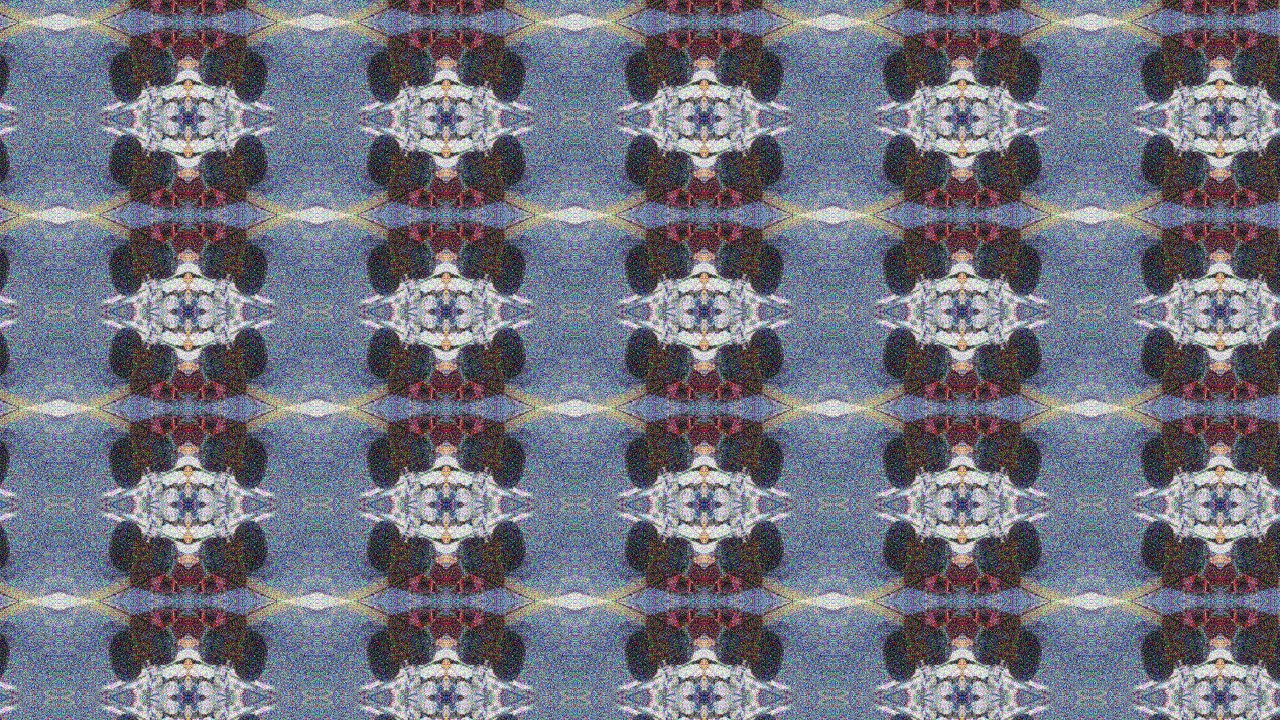chock: (186, 214, 249, 254), (383, 214, 446, 254), (642, 214, 705, 254), (704, 214, 767, 254), (901, 214, 964, 254), (963, 214, 1026, 254), (186, 369, 249, 409), (383, 369, 446, 409), (642, 369, 705, 409), (704, 369, 767, 409), (901, 369, 964, 409), (963, 369, 1026, 409), (186, 602, 249, 642), (383, 602, 446, 642), (642, 602, 705, 642), (704, 602, 767, 642), (901, 602, 964, 642), (963, 602, 1026, 642), (124, 214, 186, 254), (446, 214, 508, 254), (1160, 214, 1222, 254), (124, 369, 186, 409), (446, 369, 508, 409), (1160, 369, 1222, 409), (124, 602, 186, 642), (446, 602, 508, 642), (1160, 602, 1222, 642), (186, 21, 249, 60), (383, 21, 446, 60), (642, 21, 705, 60), (704, 21, 767, 60), (901, 21, 964, 60), (963, 21, 1026, 60), (186, 175, 249, 214), (383, 175, 446, 214), (642, 175, 705, 214), (704, 175, 767, 214), (901, 175, 964, 214), (963, 175, 1026, 214), (186, 409, 249, 448), (383, 409, 446, 448), (642, 409, 705, 448), (704, 409, 767, 448), (901, 409, 964, 448), (963, 409, 1026, 448), (186, 563, 249, 602), (383, 563, 446, 602), (642, 563, 705, 602), (704, 563, 767, 602), (901, 563, 964, 602), (963, 563, 1026, 602), (124, 21, 186, 60), (446, 21, 508, 60), (1160, 21, 1222, 60), (124, 175, 186, 214), (446, 175, 508, 214), (1160, 175, 1222, 214), (124, 409, 186, 448), (446, 409, 508, 448), (1160, 409, 1222, 448), (124, 563, 186, 602), (446, 563, 508, 602), (1160, 563, 1222, 602), (1222, 214, 1280, 254), (1222, 369, 1280, 409), (1222, 602, 1280, 642), (1222, 21, 1280, 60), (1222, 175, 1280, 214), (1222, 409, 1280, 448), (1222, 563, 1280, 602), (186, 0, 249, 20), (383, 0, 446, 20), (642, 0, 705, 20), (704, 0, 767, 20), (901, 0, 964, 20), (963, 0, 1026, 20), (124, 0, 186, 20), (446, 0, 508, 20), (1160, 0, 1222, 20), (1222, 0, 1280, 20), (186, 31, 207, 61), (425, 31, 446, 61), (1222, 31, 1243, 61), (186, 174, 207, 204), (425, 174, 446, 204), (1222, 174, 1243, 204), (186, 225, 207, 255), (425, 225, 446, 255), (1222, 225, 1243, 255), (186, 368, 207, 398), (425, 368, 446, 398), (1222, 368, 1243, 398), (186, 419, 207, 449), (425, 419, 446, 449), (1222, 419, 1243, 449), (186, 562, 207, 592), (425, 562, 446, 592), (1222, 562, 1243, 592), (186, 613, 207, 643), (425, 613, 446, 643), (1222, 613, 1243, 643), (166, 31, 186, 61), (446, 31, 466, 61), (684, 31, 704, 61), (705, 31, 725, 61), (943, 31, 963, 61), (964, 31, 984, 61), (1202, 31, 1222, 61), (166, 174, 186, 204), (446, 174, 466, 204), (684, 174, 704, 204), (705, 174, 725, 204), (943, 174, 963, 204), (964, 174, 984, 204), (1202, 174, 1222, 204), (166, 225, 186, 255), (446, 225, 466, 255), (684, 225, 704, 255), (705, 225, 725, 255), (943, 225, 963, 255), (964, 225, 984, 255), (1202, 225, 1222, 255), (166, 368, 186, 398), (446, 368, 466, 398), (684, 368, 704, 398), (705, 368, 725, 398), (943, 368, 963, 398), (964, 368, 984, 398), (1202, 368, 1222, 398), (166, 419, 186, 449), (446, 419, 466, 449), (684, 419, 704, 449), (705, 419, 725, 449), (943, 419, 963, 449), (964, 419, 984, 449), (1202, 419, 1222, 449), (166, 562, 186, 592), (446, 562, 466, 592), (684, 562, 704, 592), (705, 562, 725, 592), (943, 562, 963, 592), (964, 562, 984, 592), (1202, 562, 1222, 592), (166, 613, 186, 643), (446, 613, 466, 643), (684, 613, 704, 643), (705, 613, 725, 643), (943, 613, 963, 643), (964, 613, 984, 643), (1202, 613, 1222, 643), (186, 0, 207, 10), (425, 0, 446, 10), (1222, 0, 1243, 10), (166, 0, 186, 10), (446, 0, 466, 10), (684, 0, 704, 10), (705, 0, 725, 10), (943, 0, 963, 10), (964, 0, 984, 10), (1202, 0, 1222, 10)
wheel: (97, 48, 149, 108), (224, 48, 276, 108), (356, 48, 408, 108), (483, 48, 535, 108), (615, 48, 667, 108), (742, 48, 794, 108), (874, 48, 926, 108), (1001, 48, 1053, 108), (1133, 48, 1185, 108), (97, 127, 149, 187), (224, 127, 276, 187), (356, 127, 408, 187), (483, 127, 535, 187), (615, 127, 667, 187), (742, 127, 794, 187), (874, 127, 926, 187), (1001, 127, 1053, 187), (1133, 127, 1185, 187), (97, 242, 149, 302), (224, 242, 276, 302), (356, 242, 408, 302), (483, 242, 535, 302), (615, 242, 667, 302), (742, 242, 794, 302), (874, 242, 926, 302), (1001, 242, 1053, 302), (1133, 242, 1185, 302), (97, 321, 149, 381), (224, 321, 276, 381), (356, 321, 408, 381), (483, 321, 535, 381), (615, 321, 667, 381), (742, 321, 794, 381), (874, 321, 926, 381), (1001, 321, 1053, 381), (1133, 321, 1185, 381), (97, 436, 149, 496), (224, 436, 276, 496), (356, 436, 408, 496), (483, 436, 535, 496), (615, 436, 667, 496), (742, 436, 794, 496), (874, 436, 926, 496), (1001, 436, 1053, 496), (1133, 436, 1185, 496), (97, 515, 149, 575), (224, 515, 276, 575), (356, 515, 408, 575), (483, 515, 535, 575), (615, 515, 667, 575), (742, 515, 794, 575), (874, 515, 926, 575), (1001, 515, 1053, 575), (1133, 515, 1185, 575), (97, 630, 149, 690), (224, 630, 276, 690), (356, 630, 408, 690), (483, 630, 535, 690), (615, 630, 667, 690), (742, 630, 794, 690), (874, 630, 926, 690), (1001, 630, 1053, 690), (1133, 630, 1185, 690), (141, 44, 183, 90), (190, 44, 232, 90), (400, 44, 442, 90), (449, 44, 491, 90), (659, 44, 701, 90), (708, 44, 750, 90), (918, 44, 960, 90), (967, 44, 1009, 90), (1177, 44, 1219, 90), (1226, 44, 1268, 90), (141, 145, 183, 191), (190, 145, 232, 191), (400, 145, 442, 191), (449, 145, 491, 191), (659, 145, 701, 191), (708, 145, 750, 191), (918, 145, 960, 191), (967, 145, 1009, 191), (1177, 145, 1219, 191), (1226, 145, 1268, 191), (141, 238, 183, 284), (190, 238, 232, 284), (400, 238, 442, 284), (449, 238, 491, 284), (659, 238, 701, 284), (708, 238, 750, 284), (918, 238, 960, 284), (967, 238, 1009, 284), (1177, 238, 1219, 284), (1226, 238, 1268, 284), (141, 339, 183, 385), (190, 339, 232, 385), (400, 339, 442, 385), (449, 339, 491, 385), (659, 339, 701, 385), (708, 339, 750, 385), (918, 339, 960, 385), (967, 339, 1009, 385), (1177, 339, 1219, 385), (1226, 339, 1268, 385), (141, 432, 183, 478), (190, 432, 232, 478), (400, 432, 442, 478), (449, 432, 491, 478), (659, 432, 701, 478), (708, 432, 750, 478), (918, 432, 960, 478), (967, 432, 1009, 478), (1177, 432, 1219, 478), (1226, 432, 1268, 478), (141, 533, 183, 579), (190, 533, 232, 579), (400, 533, 442, 579), (449, 533, 491, 579), (659, 533, 701, 579), (708, 533, 750, 579), (918, 533, 960, 579), (967, 533, 1009, 579), (1177, 533, 1219, 579), (1226, 533, 1268, 579), (141, 626, 183, 672), (190, 626, 232, 672), (400, 626, 442, 672), (449, 626, 491, 672), (659, 626, 701, 672), (708, 626, 750, 672), (918, 626, 960, 672), (967, 626, 1009, 672), (1177, 626, 1219, 672), (1226, 626, 1268, 672), (1260, 48, 1280, 108), (1260, 127, 1280, 187), (1260, 242, 1280, 302), (1260, 321, 1280, 381), (1260, 436, 1280, 496), (1260, 515, 1280, 575), (1260, 630, 1280, 690), (0, 48, 17, 108), (0, 127, 17, 187), (0, 242, 17, 302), (0, 321, 17, 381), (0, 436, 17, 496), (0, 515, 17, 575), (0, 630, 17, 690), (97, 709, 149, 720), (224, 709, 276, 720), (356, 709, 408, 720), (483, 709, 535, 720), (615, 709, 667, 720), (742, 709, 794, 720), (874, 709, 926, 720), (1001, 709, 1053, 720), (1133, 709, 1185, 720)
